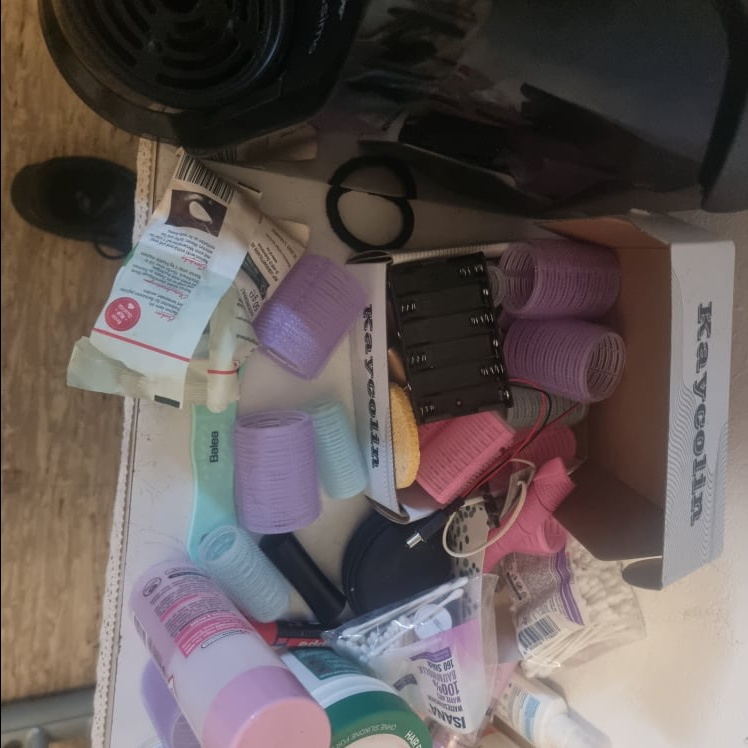BATTERY BOX: (387, 254, 513, 427)
